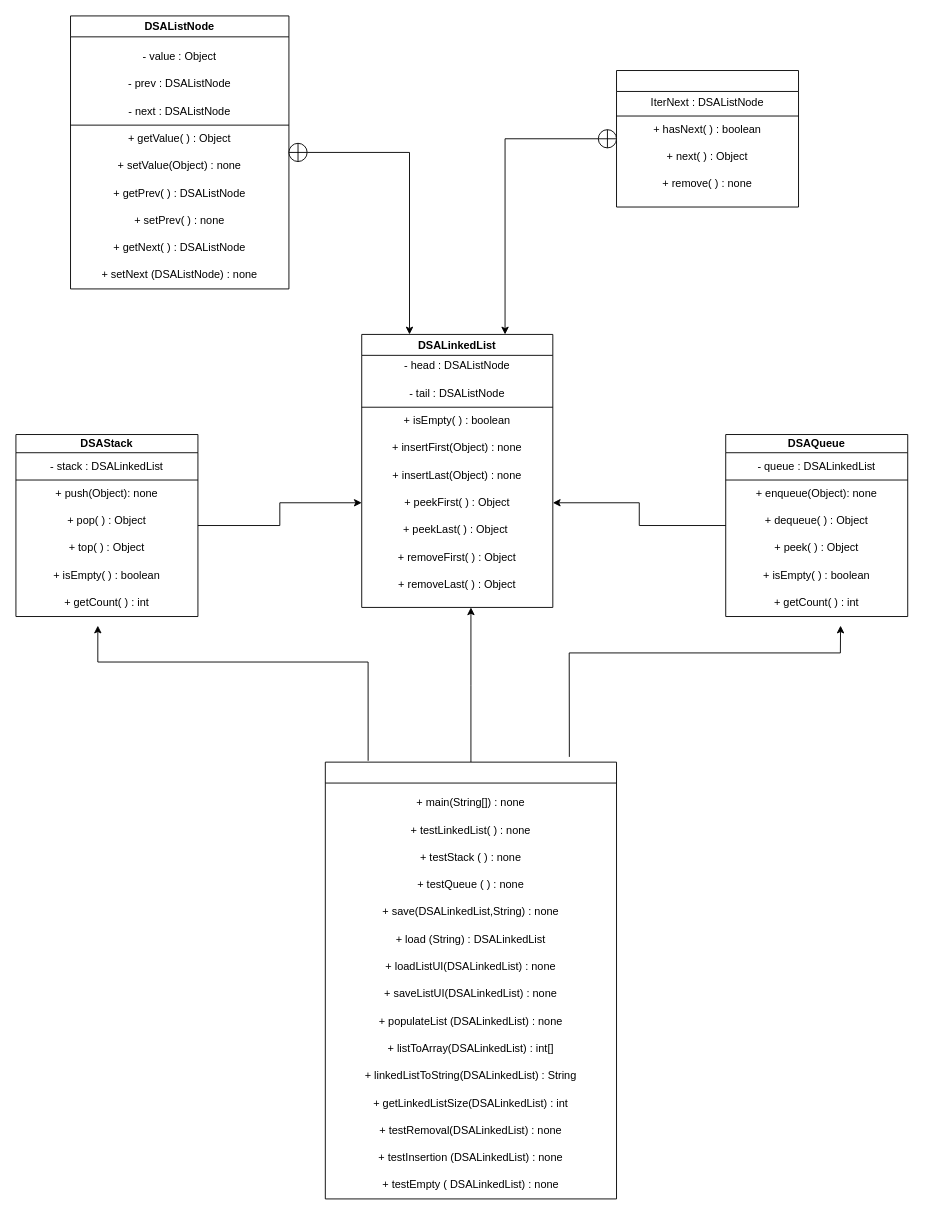
Image size: 925x1215. Some labels were removed from this diagram. Each missing label, with the box of its shape:
DSALinkedListIterator: (616, 70, 799, 207)
DSALinkedListTestHarness: (324, 761, 617, 1199)
